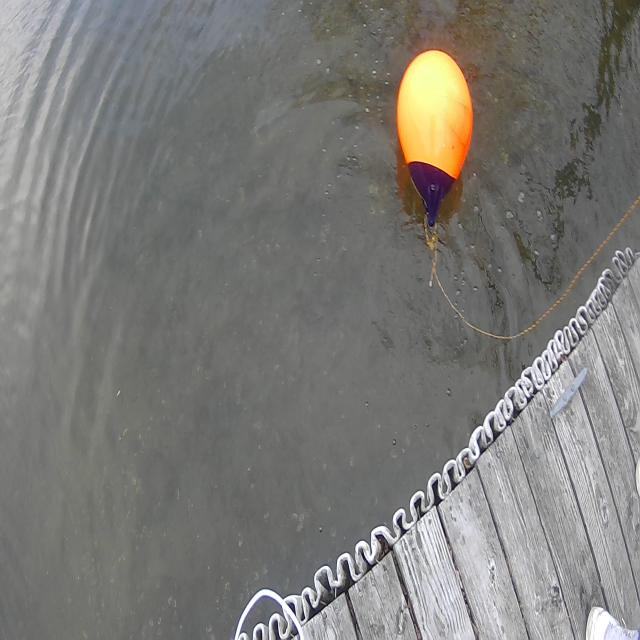Buoy: (390, 20, 478, 231)
